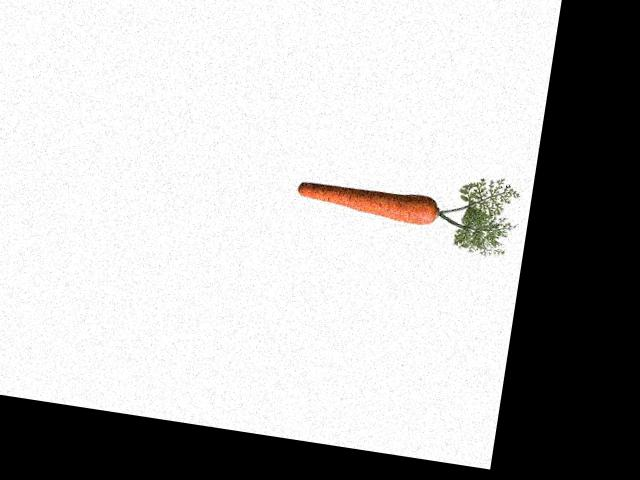carrot: (293, 167, 445, 235)
